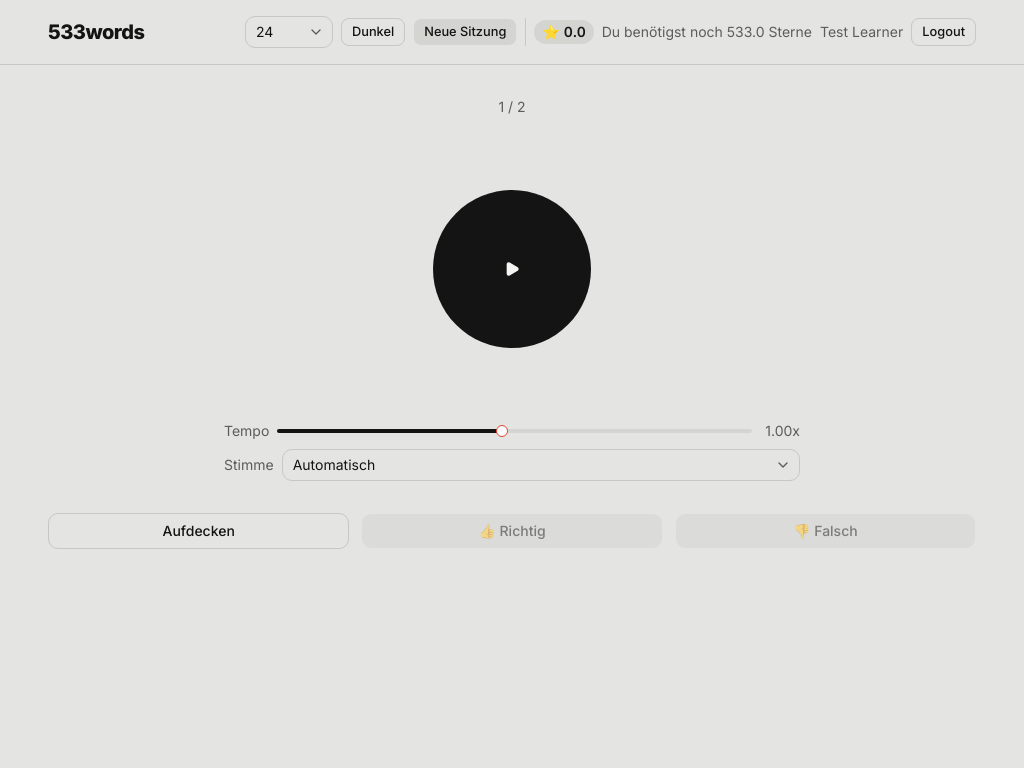
Test case: Home practice screen › auto-advances to a new word and speaks it after flagging correct, with words remaining
Expected: the button named "abspielen" is shown, [432,189,592,349]
Click the button "Aufdecken": (199, 531) [48,513,349,549]
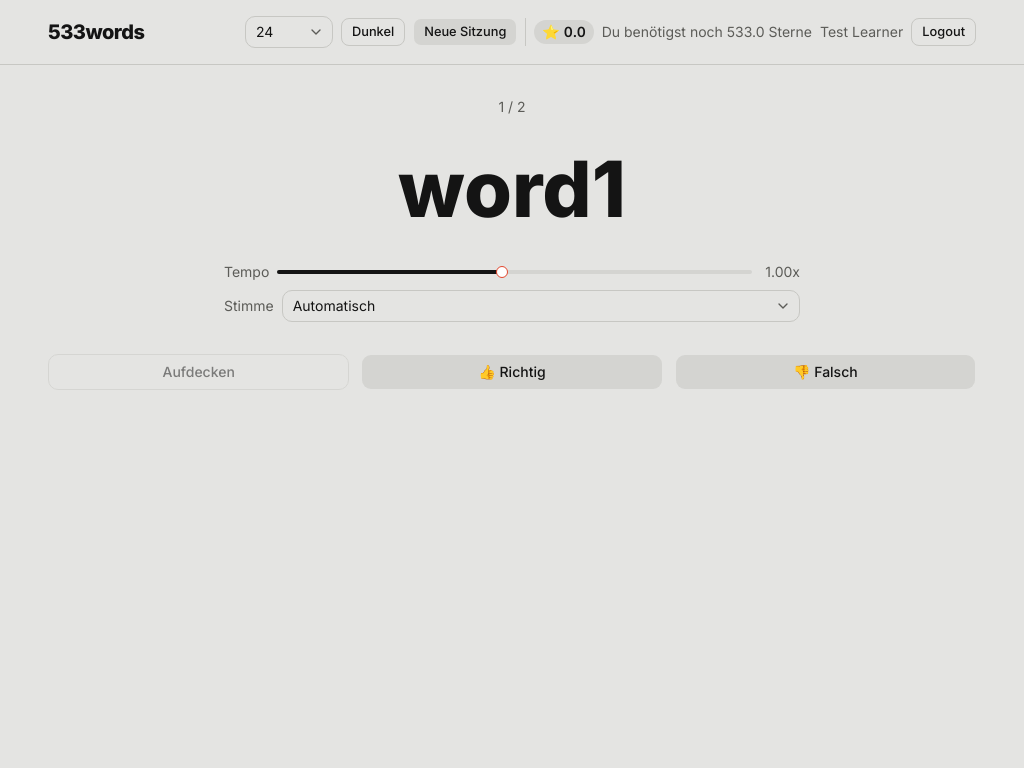
Click the button "👍 Richtig": (512, 372) [361,354,663,390]
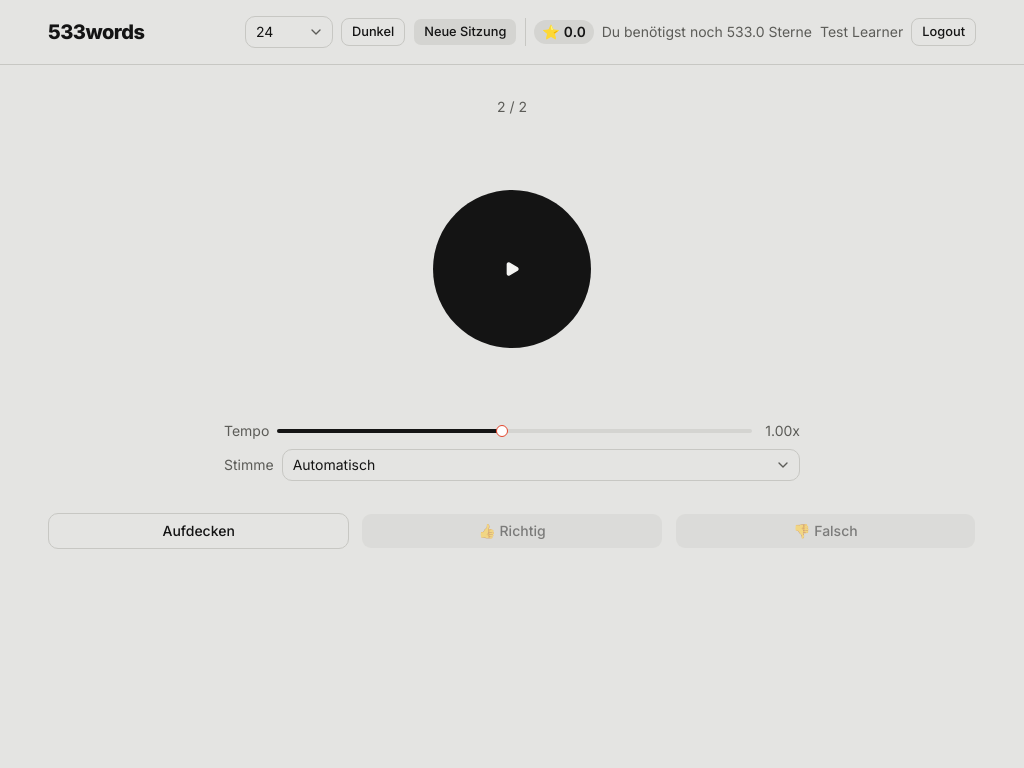
Now the button named "abspielen" is shown, box [432,189,592,349]
Now the button "👍 Richtig" is disabled, box [361,513,663,549]
Now the button "👎 Falsch" is disabled, box [675,513,976,549]
